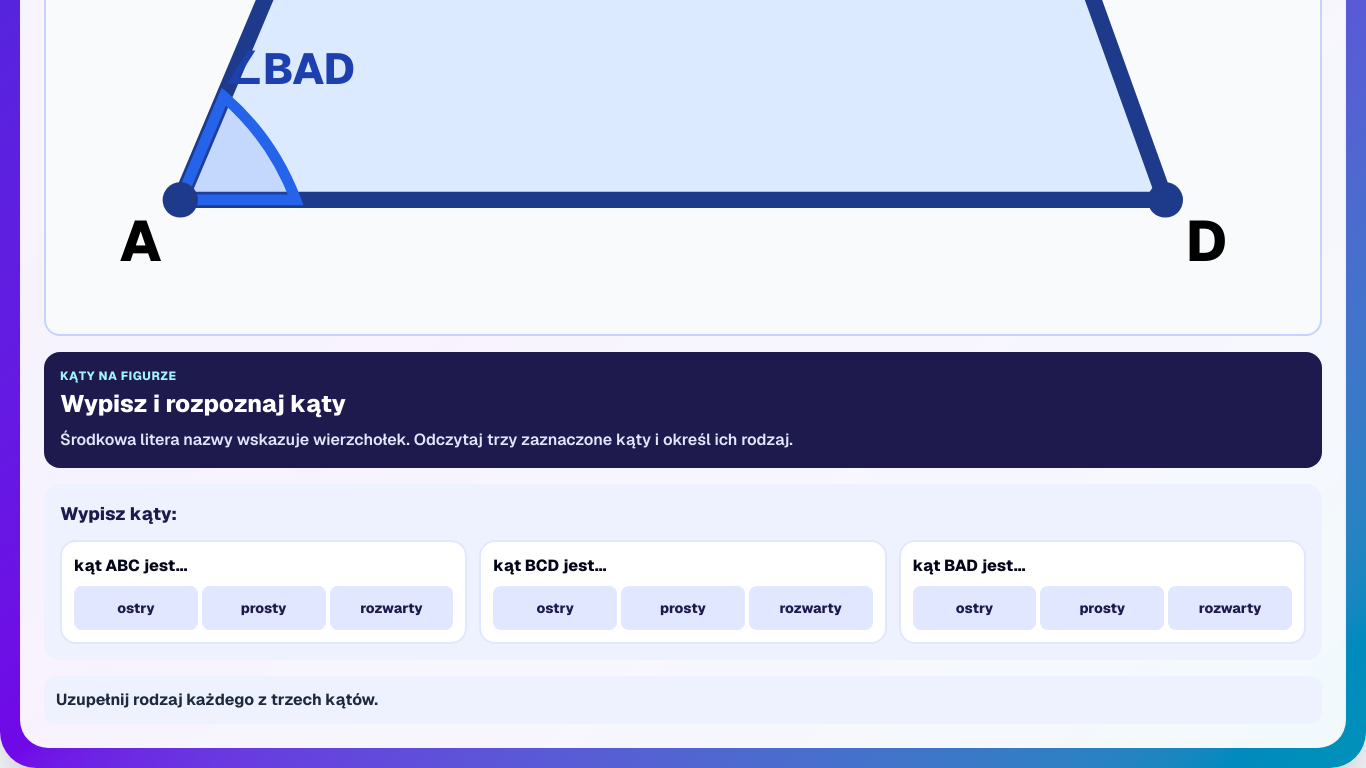
Test: M5-4.2 — rozpoznawanie kątów › odczytuje i klasyfikuje trzy nazwane kąty na figurze
This screenshot has width=1366, height=768.
(page scrolled)
Step 1. Click the button "rozwarty" below "kąt ABC" → {"x": 391, "y": 608}, box [330,586,453,630]
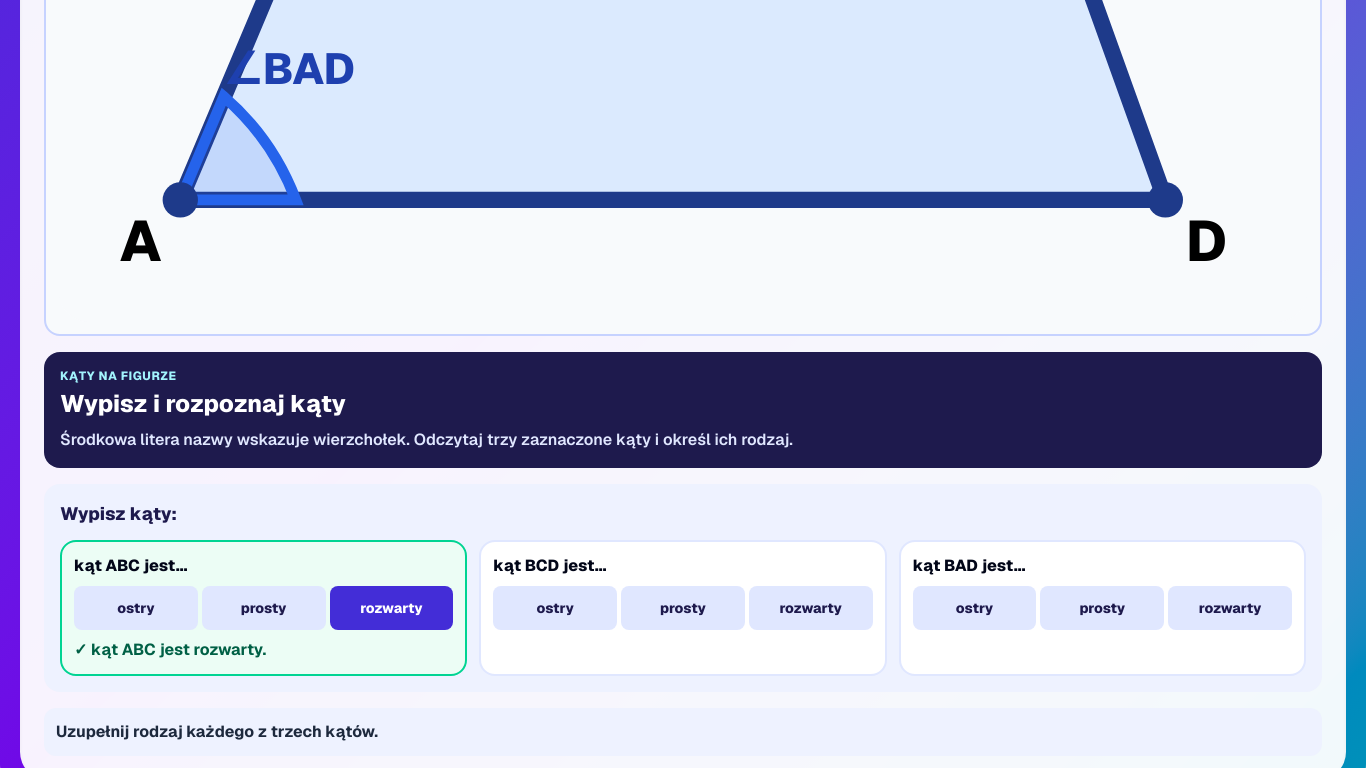
Step 2. Click the button "rozwarty" below "kąt BCD" → {"x": 811, "y": 608}, box [749,586,873,630]
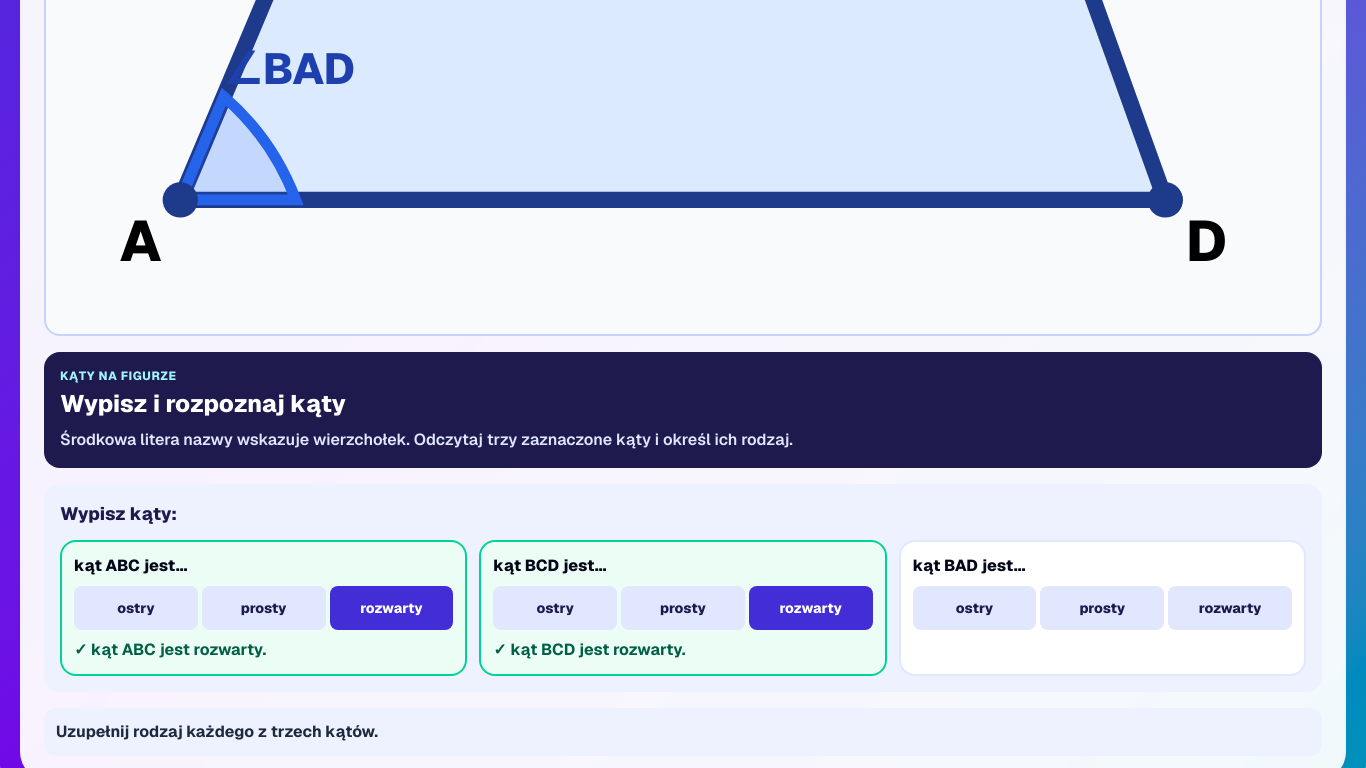
Step 3. Click the button "ostry" below "kąt BAD" → {"x": 975, "y": 608}, box [913,586,1036,630]
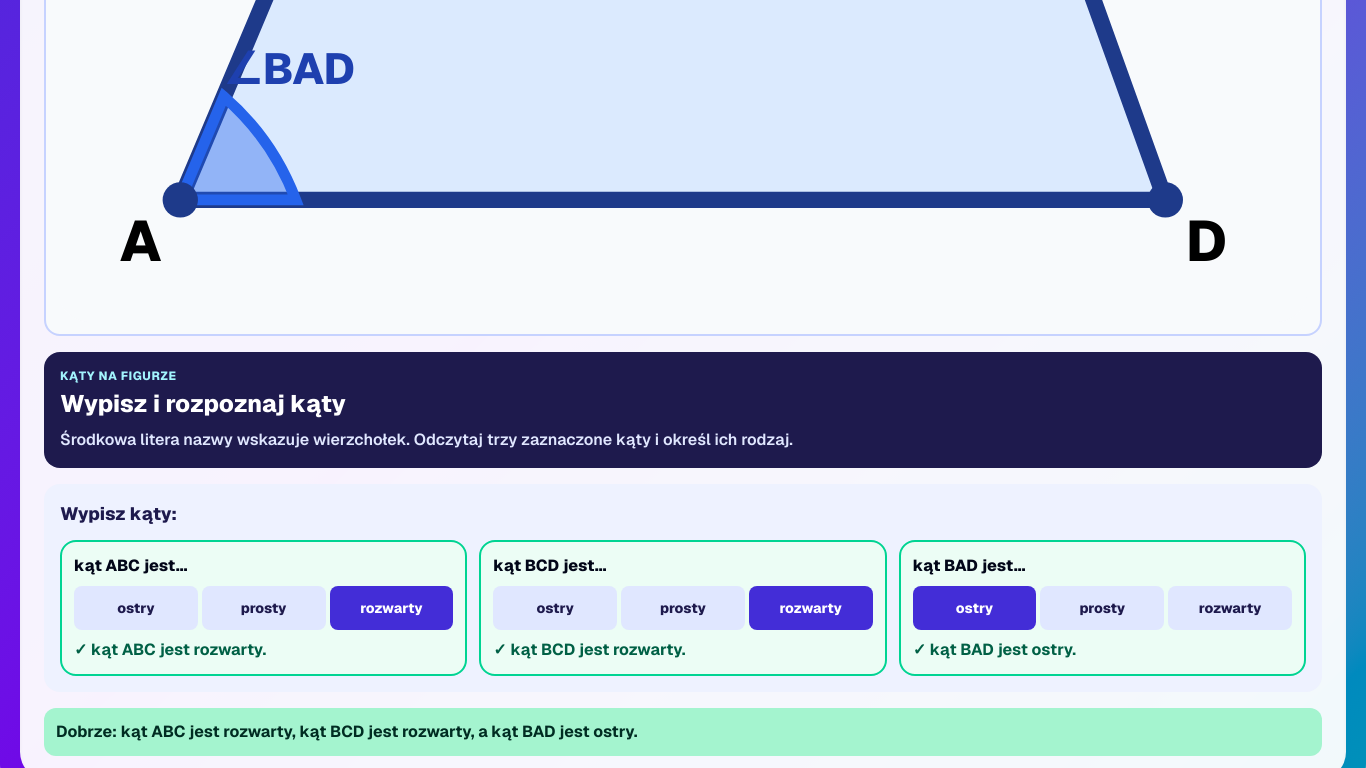
Check: the message shows "kąt ABC jest rozwarty, kąt BCD jest rozwarty, a kąt BAD jest ostry", box [56,721,638,742]
